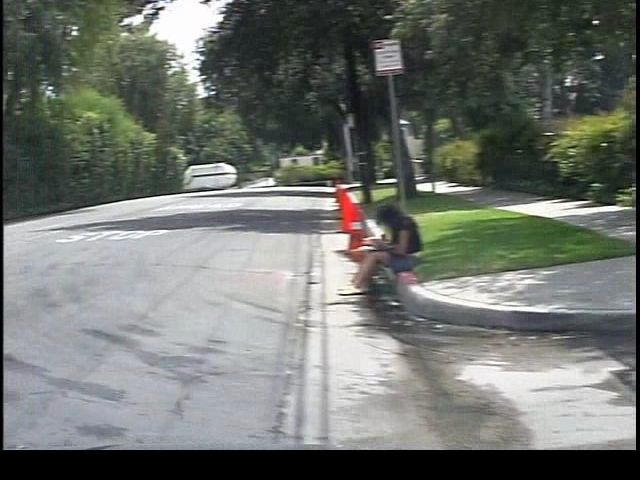person: (319, 198, 412, 297)
